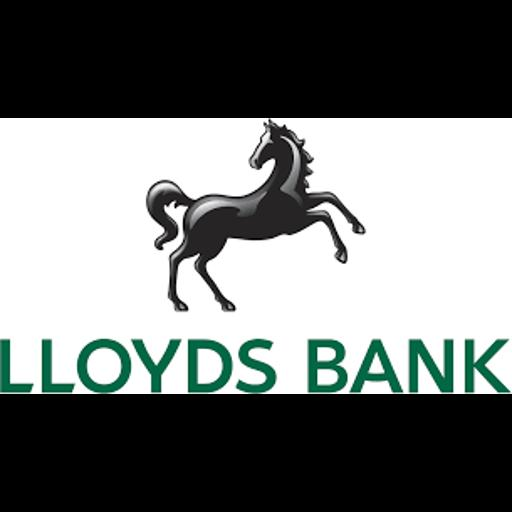Lloyds TSB Group: (0, 118, 512, 394)
